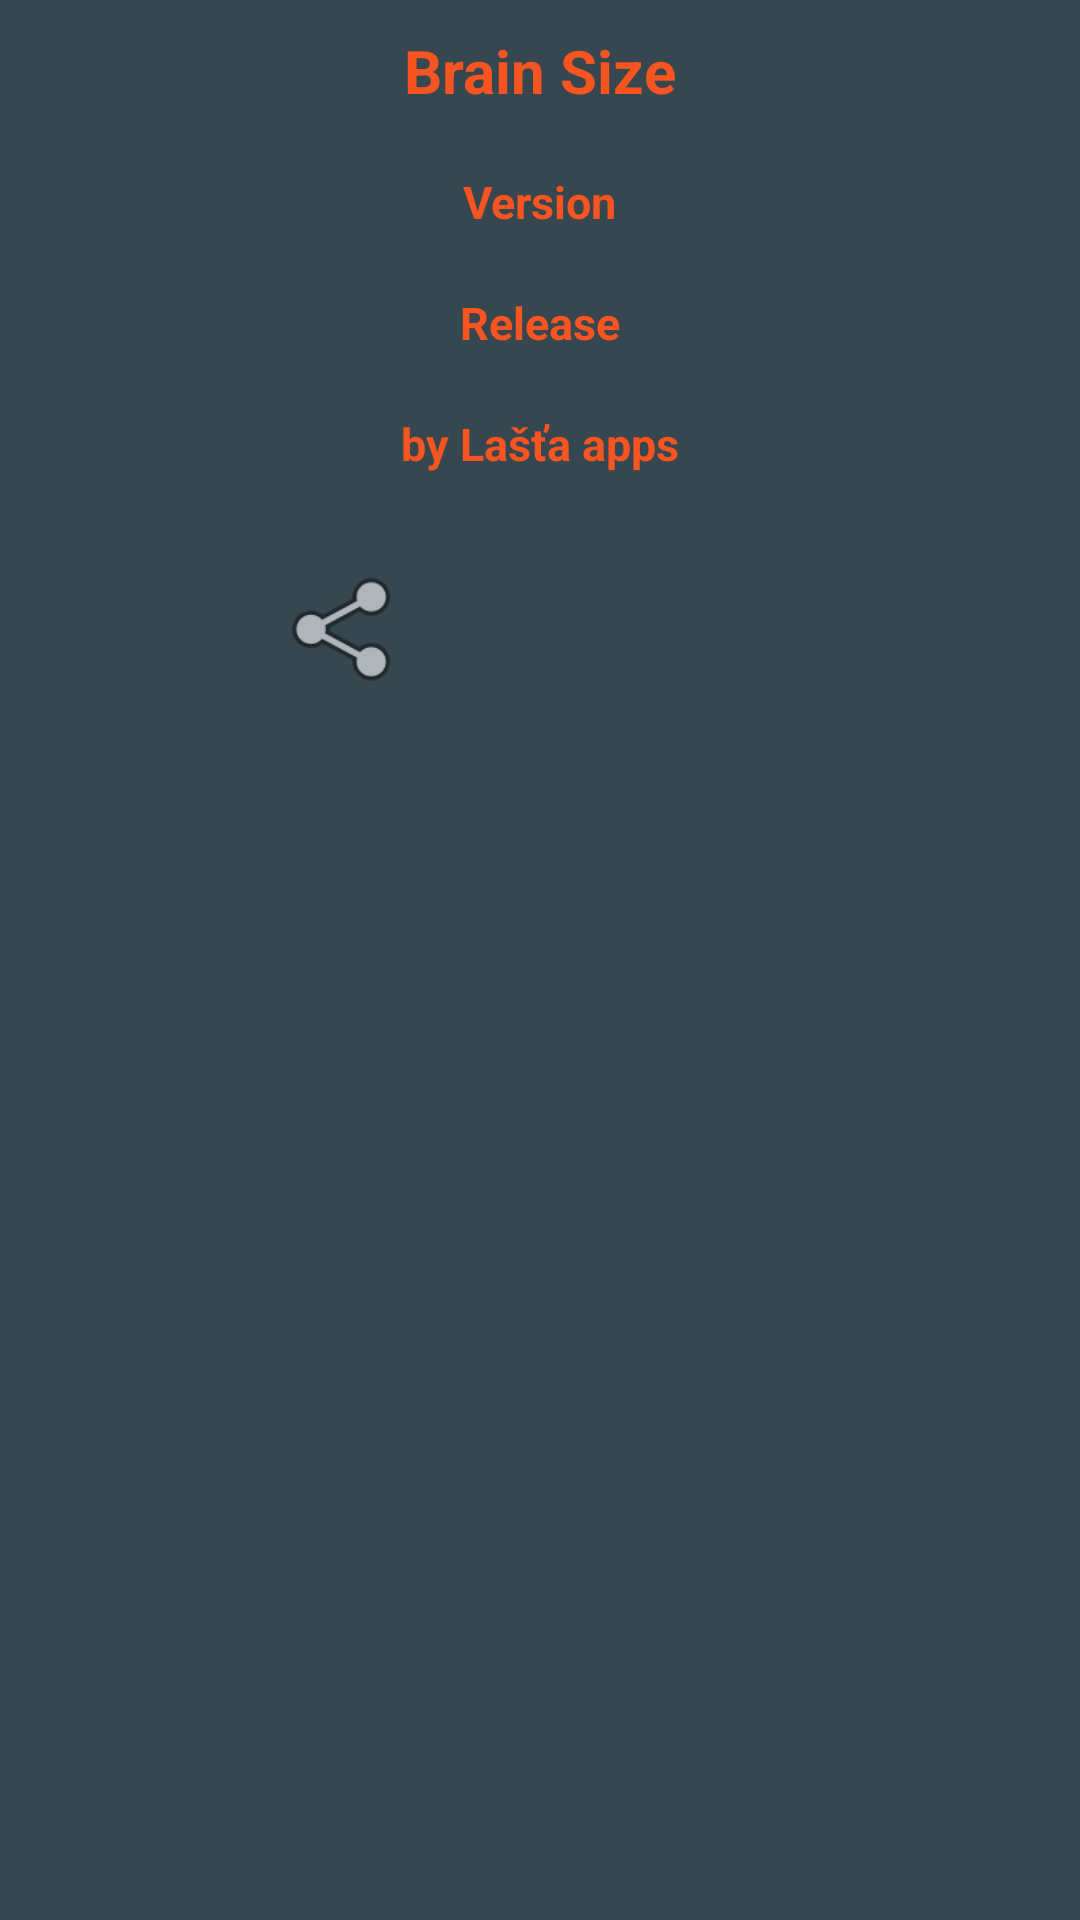

Where to tap for icons on this 1080 × 1920 app screen, as [x,y]:
share: [341,629]
